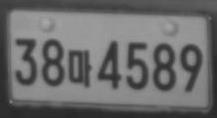3: (14, 37, 38, 86)
4: (96, 40, 122, 89)
5: (125, 41, 148, 90)
8: (41, 38, 65, 86), (152, 43, 176, 90)
9: (180, 43, 203, 93)
마: (67, 48, 93, 88)
